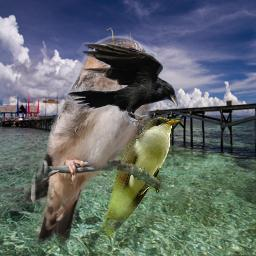Crow: (64, 42, 179, 126)
Cuckoo: (100, 116, 183, 238)
Swallow: (23, 35, 157, 246)
